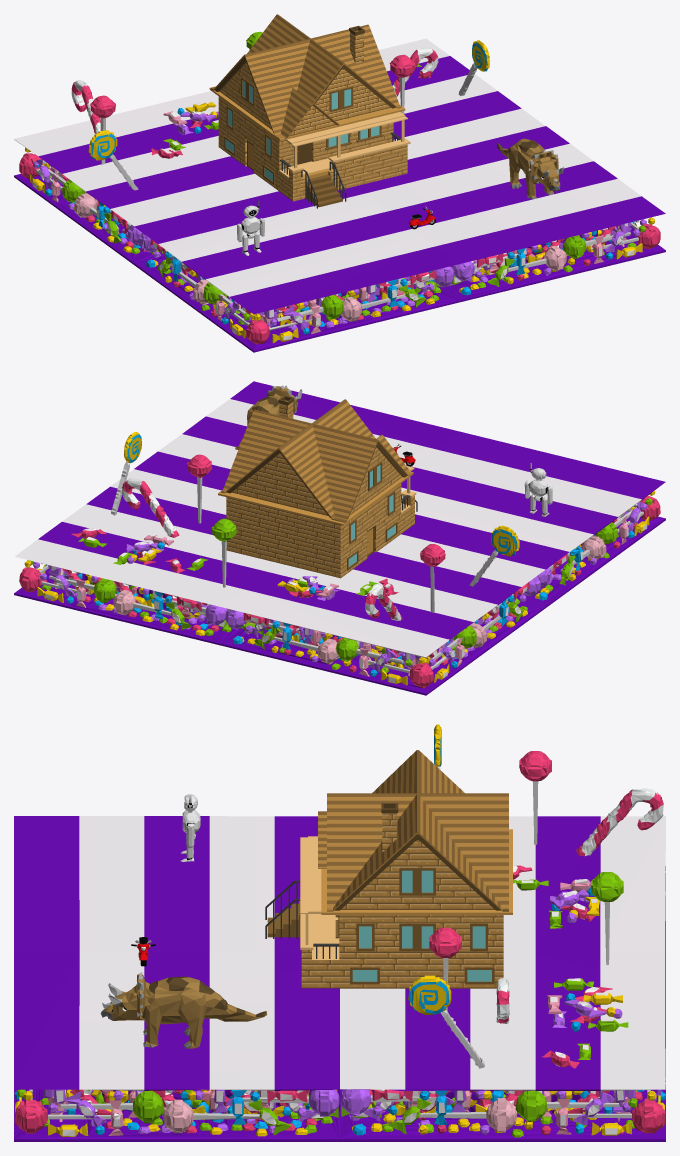
3 views of the same model, one above another, from view 1: azimuth 30°, elevation 25°; view 2: azimuth 150°, elevation 25°; view 3: azimuth 270°, elevation 25° (orthographic). The views are drawn at different scales.
Parts seen in each view (by area): view 1: TERRAIN_CANDY, Cube.508, ANIMAL_Triceratops, OBJRANDOM_PLATZEEBOT; view 2: TERRAIN_CANDY, Cube.508, OBJRANDOM_PLATZEEBOT, ANIMAL_Triceratops; view 3: TERRAIN_CANDY, Cube.508, ANIMAL_Triceratops, OBJRANDOM_PLATZEEBOT.
Boxes of the visible parts, x1,y1,x2,y2 form: TERRAIN_CANDY: (14, 31, 665, 352); Cube.508: (209, 14, 410, 208); ANIMAL_Triceratops: (497, 138, 564, 199); OBJRANDOM_PLATZEEBOT: (237, 200, 264, 255); TERRAIN_CANDY: (14, 381, 665, 695); Cube.508: (218, 395, 417, 578); OBJRANDOM_PLATZEEBOT: (524, 463, 552, 516); ANIMAL_Triceratops: (235, 385, 302, 449); TERRAIN_CANDY: (14, 724, 665, 1141); Cube.508: (265, 750, 512, 988); ANIMAL_Triceratops: (100, 972, 267, 1048); OBJRANDOM_PLATZEEBOT: (180, 794, 200, 861).
Bounding box in the file's own units: 4059 × 1588 × 4000.
Materials: 28 (3 with a texture image).
